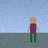person: (27, 17, 39, 42)
